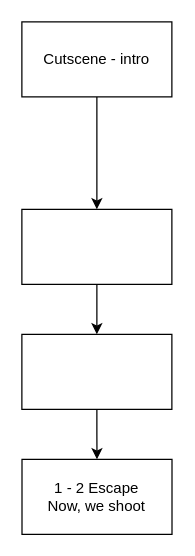
Some shapes in this 195 by 556 pixel diagram are drawn without their labels. Each missing label, with the centre of its shape:
"1 - 1 Get gun Forbidden violence" goes at (96,246).
"Camp gets raided" goes at (96,371).
